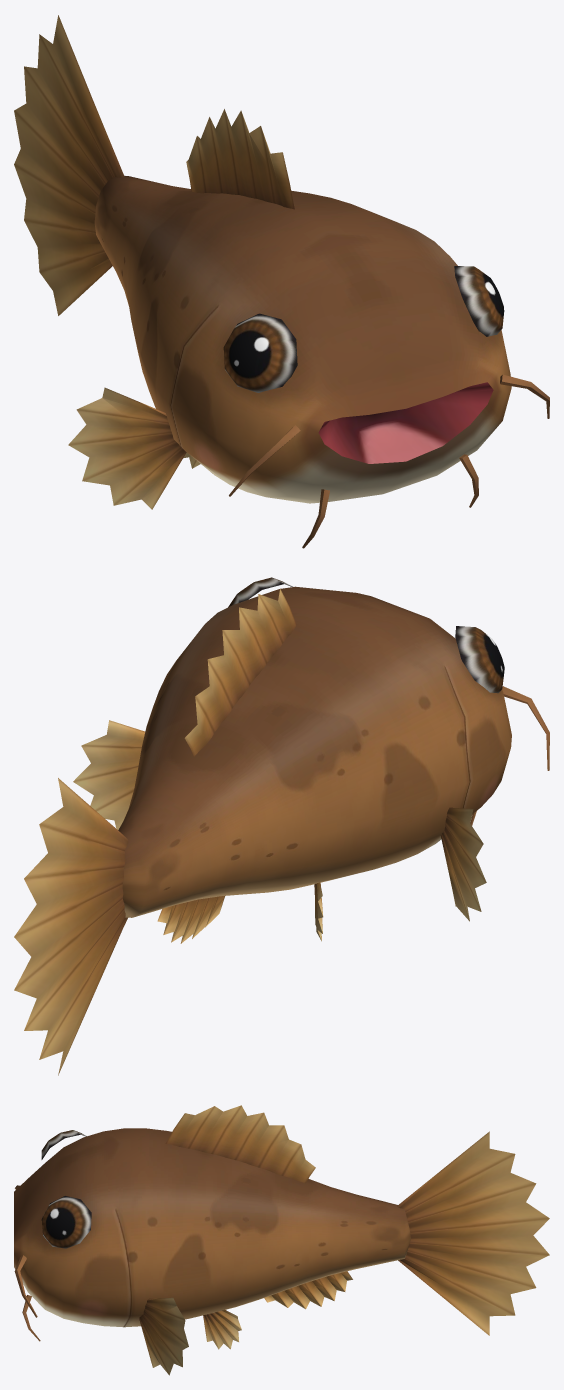
File: mudlark.glb
The picture shows the model from 3 angles, top to bottom: view 1: azimuth 30°, elevation 25°; view 2: azimuth 150°, elevation 25°; view 3: azimuth 270°, elevation 25°; orthographic projection. The views are drawn at different scales.
Visible parts, largest first — view 1: mudlark; view 2: mudlark; view 3: mudlark.
Boxes of the visible parts, <box> form: mudlark: <box>14,15,549,548</box>; mudlark: <box>14,577,549,1075</box>; mudlark: <box>14,1105,549,1375</box>.
Bounding box in the file's own units: 0.6115 × 0.4754 × 1.
1 material, 1 textured.
